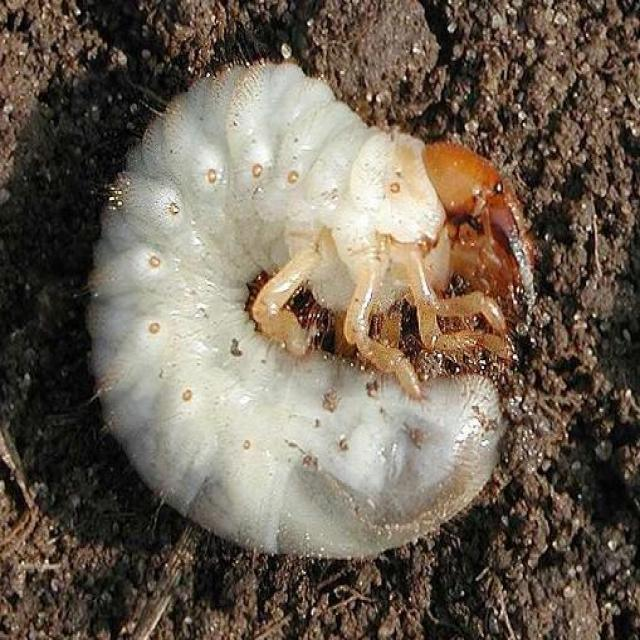Grub-Adult-: (69, 44, 552, 566)
